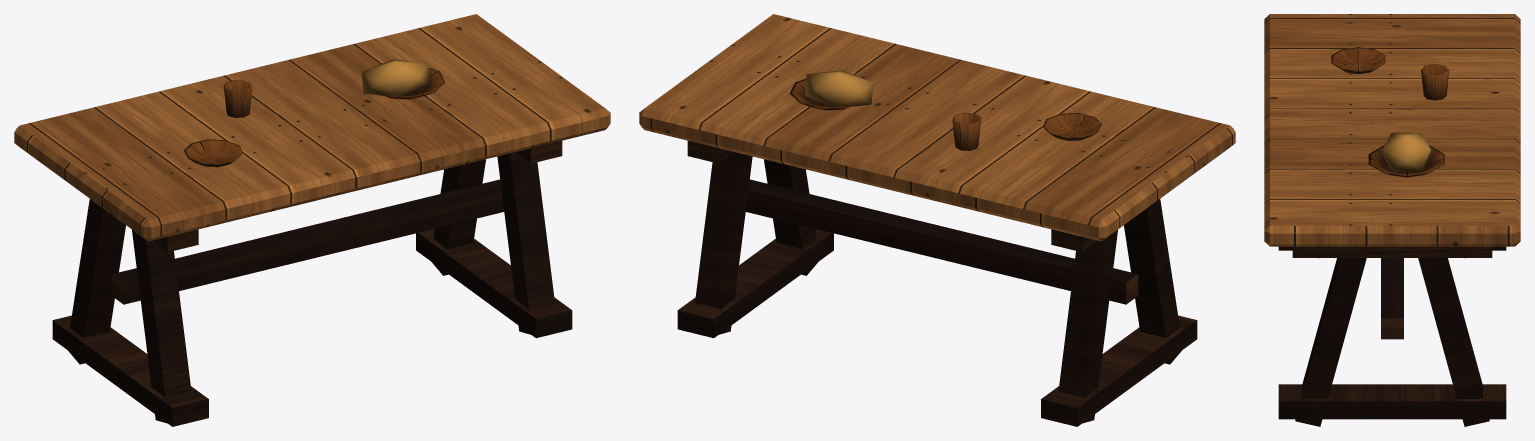
Rendered from interior_table.glb.
3 renders of one model, left to right at view 1: azimuth 30°, elevation 25°; view 2: azimuth 150°, elevation 25°; view 3: azimuth 270°, elevation 25°, orthographic. The views are drawn at different scales.
Visible parts, largest first — view 1: interior_table; view 2: interior_table; view 3: interior_table.
Boxes of the visible parts, x1,y1,x2,y2 form: interior_table: [14, 14, 610, 426]; interior_table: [639, 14, 1235, 426]; interior_table: [1264, 14, 1520, 426].
Size of the model in its own units: 1.8 by 0.939 by 0.9.
3 materials, 2 textured.
